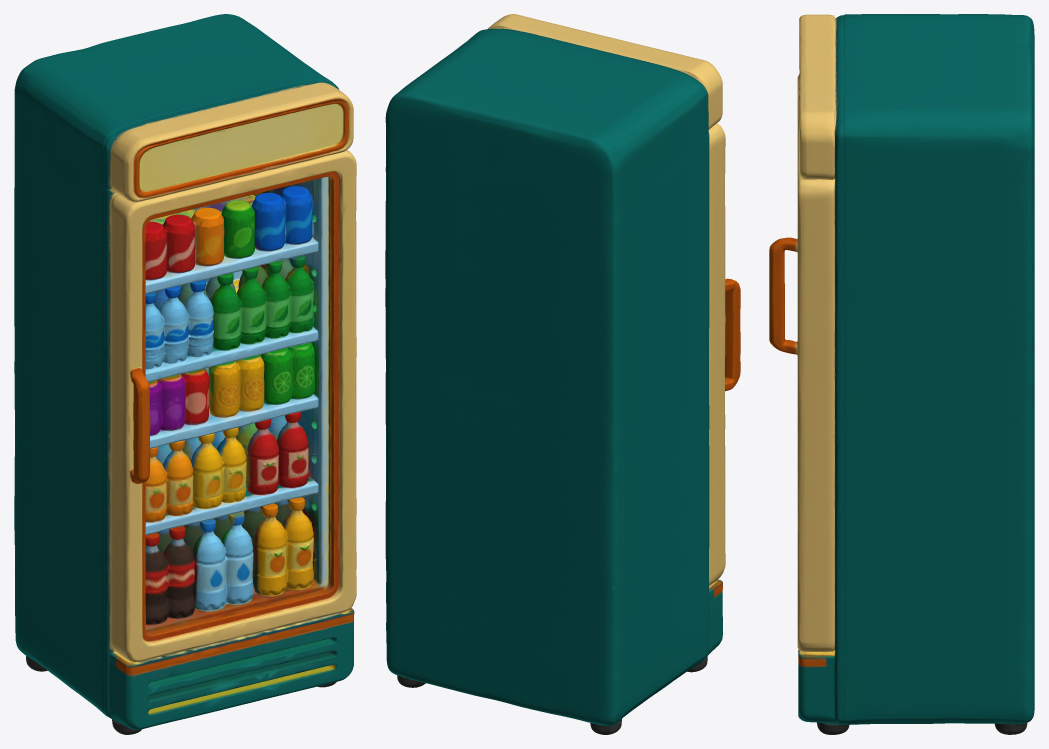
File: Refrigerator.glb
3 renders of one model, left to right at view 1: azimuth 30°, elevation 25°; view 2: azimuth 150°, elevation 25°; view 3: azimuth 270°, elevation 25°, orthographic. The views are drawn at different scales.
Visible parts, largest first — view 1: tripo_node_cdbee12d-cb73-45c0-8748-218bfad5c1e4; view 2: tripo_node_cdbee12d-cb73-45c0-8748-218bfad5c1e4; view 3: tripo_node_cdbee12d-cb73-45c0-8748-218bfad5c1e4.
Part boxes in pixels (x1,y1,x2,y2): tripo_node_cdbee12d-cb73-45c0-8748-218bfad5c1e4: [14, 14, 356, 734]; tripo_node_cdbee12d-cb73-45c0-8748-218bfad5c1e4: [385, 14, 740, 734]; tripo_node_cdbee12d-cb73-45c0-8748-218bfad5c1e4: [769, 14, 1034, 734].
Size of the model in its own units: 0.3986 by 0.979 by 0.38.
1 material, 1 textured.
